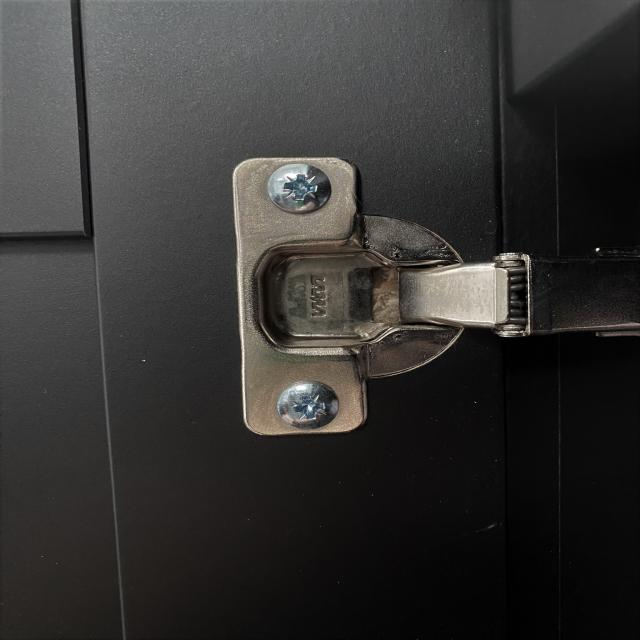PhillipsScrewHead: (268, 163, 334, 214), (276, 382, 342, 429)
